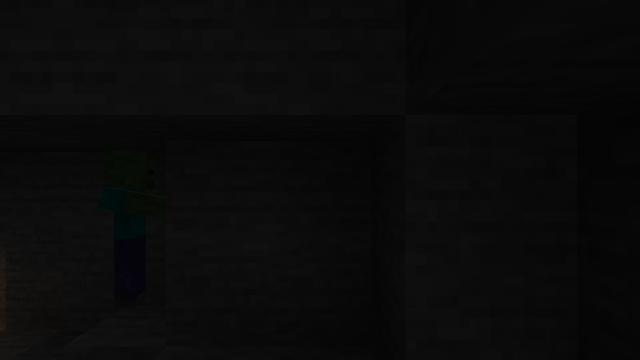zombies: (95, 153, 160, 309)
